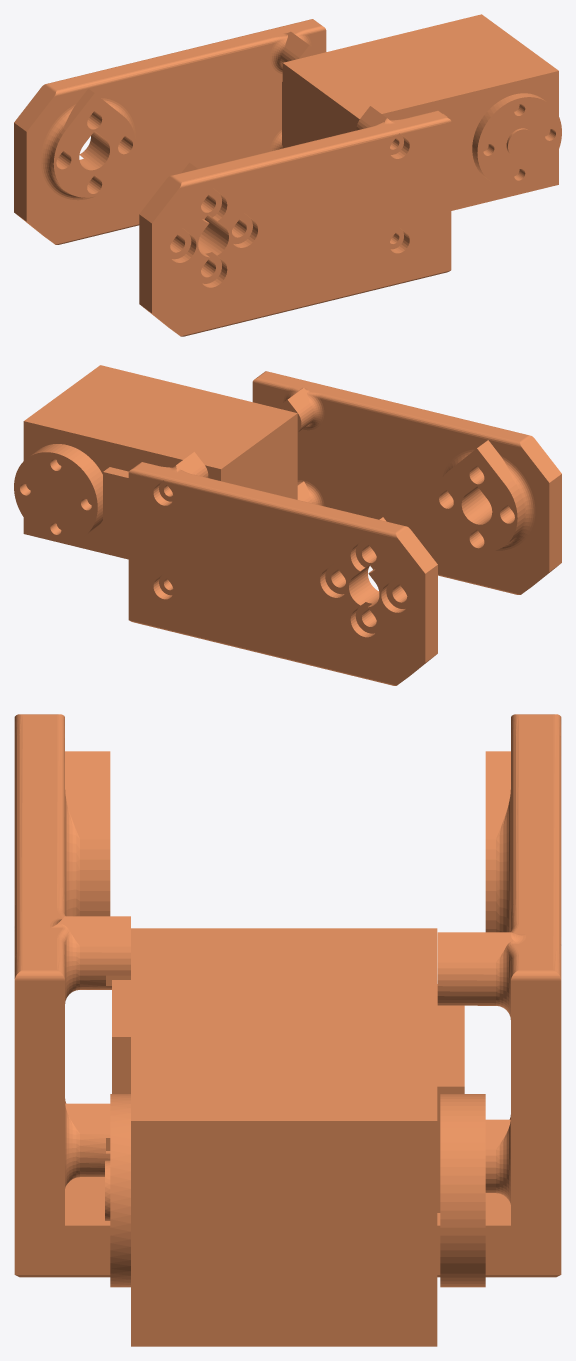
File: femur.glb
3 views of the same model, one above another, from view 1: azimuth 30°, elevation 25°; view 2: azimuth 150°, elevation 25°; view 3: azimuth 270°, elevation 25° (orthographic). The views are drawn at different scales.
Parts seen in each view (by area): view 1: femur; view 2: femur; view 3: femur.
Boxes of the visible parts, x1=… form: femur: x1=14, y1=14, x2=561, y2=336; femur: x1=14, y1=365, x2=561, y2=685; femur: x1=14, y1=714, x2=561, y2=1346.
Size of the model in its own units: 0.0991 by 0.0343 by 0.0543.
